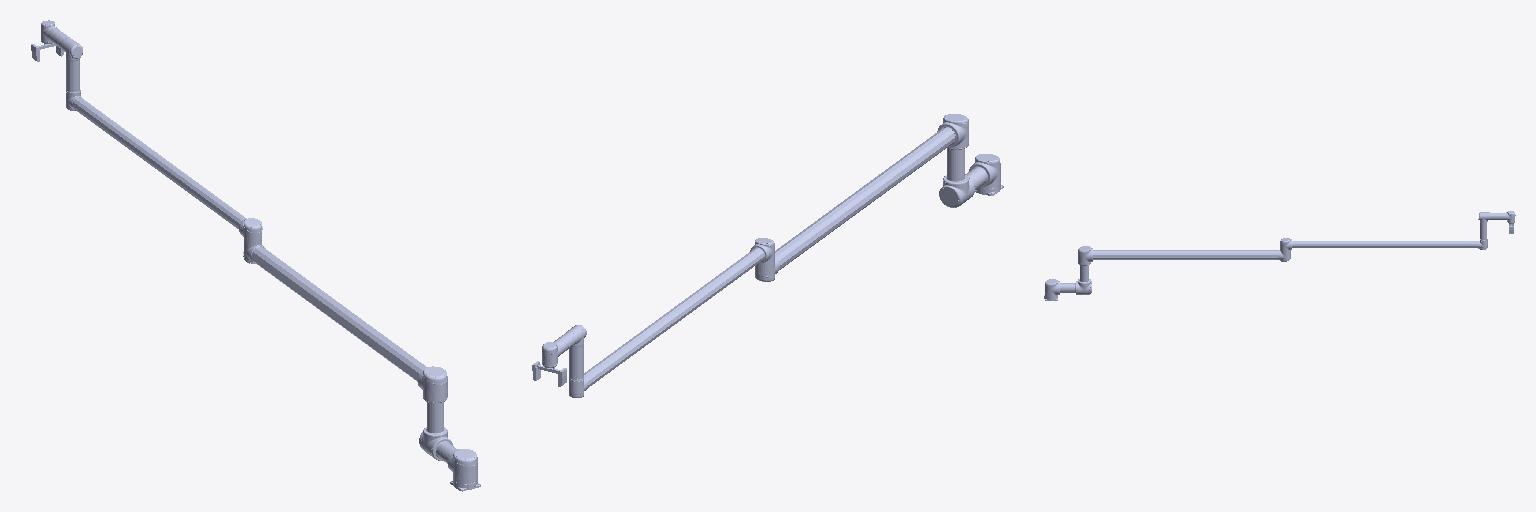
The robot description file, URDF, robot "osam_arm_urdf":
<?xml version="1.0" encoding="utf-8"?>
<!-- This URDF was automatically created by SolidWorks to URDF Exporter! Originally created by [author] ([email redacted]) 
     Commit Version:   Build Version: 1.6.8803.23649
     For more information, please see http://wiki.ros.org/sw_urdf_exporter -->
<robot
  name="osam_arm_urdf">

  <link name="world"/>

  <joint name="base_joint" type="fixed">
    <parent link="world"/>
    <child link="base_link"/>
    <origin rpy="0 0 0" xyz="0.0 0.0 0.0"/>
  </joint>
  
  <link
    name="base_link">
    <inertial>
      <origin
        xyz="6.991E-06 0.018435 0.00015935"
        rpy="0 0 0" />
      <mass
        value="0.70632" />
      <inertia
        ixx="0.0011556"
        ixy="7.8755E-08"
        ixz="-4.8008E-08"
        iyy="0.002129"
        iyz="-1.9954E-07"
        izz="0.0011458" />
    </inertial>
    <visual>
      <origin
        xyz="0 0 0"
        rpy="0 0 0" />
      <geometry>
        <mesh
          filename="package://osam_arm_urdf/meshes/base_link.STL" />
      </geometry>
      <material
        name="">
        <color
          rgba="0.79216 0.81961 0.93333 1" />
      </material>
    </visual>
    <collision>
      <origin
        xyz="0 0 0"
        rpy="0 0 0" />
      <geometry>
        <mesh
          filename="package://osam_arm_urdf/meshes/base_link.STL" />
      </geometry>
    </collision>
  </link>
  <link
    name="link_1">
    <inertial>
      <origin
        xyz="2.5674E-06 0.090696 -0.076696"
        rpy="0 0 0" />
      <mass
        value="4.9706" />
      <inertia
        ixx="0.01667"
        ixy="-9.0821E-07"
        ixz="2.0033E-07"
        iyy="0.015308"
        iyz="0.00085792"
        izz="0.01385" />
    </inertial>
    <visual>
      <origin
        xyz="0 0 0"
        rpy="0 0 0" />
      <geometry>
        <mesh
          filename="package://osam_arm_urdf/meshes/link_1.STL" />
      </geometry>
      <material
        name="">
        <color
          rgba="0.79216 0.81961 0.93333 1" />
      </material>
    </visual>
    <collision>
      <origin
        xyz="0 0 0"
        rpy="0 0 0" />
      <geometry>
        <mesh
          filename="package://osam_arm_urdf/meshes/link_1.STL" />
      </geometry>
    </collision>
  </link>
  <joint
    name="joint_1"
    type="revolute">
    <origin
      xyz="0 0 0.030189"
      rpy="1.5708 0 0" />
    <parent
      link="base_link" />
    <child
      link="link_1" />
    <axis
      xyz="0 1 0" />
    <limit
      lower="-3.14"
      upper="3.14"
      effort="111"
      velocity="3" />
  </joint>
  <link
    name="link_2">
    <inertial>
      <origin
        xyz="-3.362E-06 0.091219 -0.083339"
        rpy="0 0 0" />
      <mass
        value="5.3095" />
      <inertia
        ixx="0.019874"
        ixy="3.2202E-07"
        ixz="-6.6751E-07"
        iyy="0.014343"
        iyz="0.00085805"
        izz="0.018511" />
    </inertial>
    <visual>
      <origin
        xyz="0 0 0"
        rpy="0 0 0" />
      <geometry>
        <mesh
          filename="package://osam_arm_urdf/meshes/link_2.STL" />
      </geometry>
      <material
        name="">
        <color
          rgba="0.79216 0.81961 0.93333 1" />
      </material>
    </visual>
    <collision>
      <origin
        xyz="0 0 0"
        rpy="0 0 0" />
      <geometry>
        <mesh
          filename="package://osam_arm_urdf/meshes/link_2.STL" />
      </geometry>
    </collision>
  </link>
  <joint
    name="joint_2"
    type="revolute">
    <origin
      xyz="0 0.097811 -0.2784"
      rpy="0 0 0" />
    <parent
      link="link_1" />
    <child
      link="link_2" />
    <axis
      xyz="0 0 1" />
    <limit
      lower="-3.14"
      upper="3.14"
      effort="111"
      velocity="3" />
  </joint>
  <link
    name="link_3">
    <inertial>
      <origin
        xyz="-1.1715E-06 -1.0393 -0.089088"
        rpy="0 0 0" />
      <mass
        value="23.526" />
      <inertia
        ixx="6.6438"
        ixy="6.7367E-07"
        ixz="3.5778E-06"
        iyy="0.041506"
        iyz="-0.0011274"
        izz="6.6422" />
    </inertial>
    <visual>
      <origin
        xyz="0 0 0"
        rpy="0 0 0" />
      <geometry>
        <mesh
          filename="package://osam_arm_urdf/meshes/link_3.STL" />
      </geometry>
      <material
        name="">
        <color
          rgba="0.79216 0.81961 0.93333 1" />
      </material>
    </visual>
    <collision>
      <origin
        xyz="0 0 0"
        rpy="0 0 0" />
      <geometry>
        <mesh
          filename="package://osam_arm_urdf/meshes/link_3.STL" />
      </geometry>
    </collision>
  </link>
  <joint
    name="joint_3"
    type="revolute">
    <origin
      xyz="0 0.3154 -0.09"
      rpy="1.5708 0 0" />
    <parent
      link="link_2" />
    <child
      link="link_3" />
    <axis
      xyz="0 0 1" />
    <limit
      lower="-3.14"
      upper="3.14"
      effort="111"
      velocity="3" />
  </joint>
  <link
    name="link_4">
    <inertial>
      <origin
        xyz="5.3111E-08 1.0616 0.073084"
        rpy="0 0 0" />
      <mass
        value="14.099" />
      <inertia
        ixx="4.2041"
        ixy="9.5299E-07"
        ixz="3.8478E-07"
        iyy="0.014682"
        iyz="-0.00031182"
        izz="4.2038" />
    </inertial>
    <visual>
      <origin
        xyz="0 0 0"
        rpy="0 0 0" />
      <geometry>
        <mesh
          filename="package://osam_arm_urdf/meshes/link_4.STL" />
      </geometry>
      <material
        name="">
        <color
          rgba="0.79216 0.81961 0.93333 1" />
      </material>
    </visual>
    <collision>
      <origin
        xyz="0 0 0"
        rpy="0 0 0" />
      <geometry>
        <mesh
          filename="package://osam_arm_urdf/meshes/link_4.STL" />
      </geometry>
    </collision>
  </link>
  <joint
    name="joint_4"
    type="revolute">
    <origin
      xyz="0 -2.2307 -0.14467"
      rpy="3.1416 0 0" />
    <parent
      link="link_3" />
    <child
      link="link_4" />
    <axis
      xyz="0 0 1" />
    <limit
      lower="-3.14"
      upper="3.14"
      effort="111"
      velocity="3" />
  </joint>
  <link
    name="link_5">
    <inertial>
      <origin
        xyz="1.2326E-06 0.0034231 -0.17222"
        rpy="0 0 0" />
      <mass
        value="2.0698" />
      <inertia
        ixx="0.0059121"
        ixy="9.5844E-08"
        ixz="-2.9573E-08"
        iyy="0.0056801"
        iyz="9.0736E-05"
        izz="0.00228" />
    </inertial>
    <visual>
      <origin
        xyz="0 0 0"
        rpy="0 0 0" />
      <geometry>
        <mesh
          filename="package://osam_arm_urdf/meshes/link_5.STL" />
      </geometry>
      <material
        name="">
        <color
          rgba="0.79216 0.81961 0.93333 1" />
      </material>
    </visual>
    <collision>
      <origin
        xyz="0 0 0"
        rpy="0 0 0" />
      <geometry>
        <mesh
          filename="package://osam_arm_urdf/meshes/link_5.STL" />
      </geometry>
    </collision>
  </link>
  <joint
    name="joint_5"
    type="revolute">
    <origin
      xyz="0 2.1987 0.13404"
      rpy="3.1416 0 -3.1416" />
    <parent
      link="link_4" />
    <child
      link="link_5" />
    <axis
      xyz="0 0 1" />
    <limit
      lower="-3.14"
      upper="3.14"
      effort="111"
      velocity="3" />
  </joint>
  <link
    name="link_6">
    <inertial>
      <origin
        xyz="-1.5252E-06 0.15302 -0.0038197"
        rpy="0 0 0" />
      <mass
        value="1.8548" />
      <inertia
        ixx="0.0039377"
        ixy="-2.6512E-08"
        ixz="1.0043E-07"
        iyy="0.0020813"
        iyz="9.0735E-05"
        izz="0.0037058" />
    </inertial>
    <visual>
      <origin
        xyz="0 0 0"
        rpy="0 0 0" />
      <geometry>
        <mesh
          filename="package://osam_arm_urdf/meshes/link_6.STL" />
      </geometry>
      <material
        name="">
        <color
          rgba="0.79216 0.81961 0.93333 1" />
      </material>
    </visual>
    <collision>
      <origin
        xyz="0 0 0"
        rpy="0 0 0" />
      <geometry>
        <mesh
          filename="package://osam_arm_urdf/meshes/link_6.STL" />
      </geometry>
    </collision>
  </link>
  <joint
    name="joint_6"
    type="revolute">
    <origin
      xyz="0 0.060895 -0.28421"
      rpy="3.1416 0 -3.1416" />
    <parent
      link="link_5" />
    <child
      link="link_6" />
    <axis
      xyz="0 1 0" />
    <limit
      lower="-3.14"
      upper="3.14"
      effort="111"
      velocity="3" />
  </joint>
  <link
    name="link_7">
    <inertial>
      <origin
        xyz="-2.9345E-09 0.022658 1.3952E-07"
        rpy="0 0 0" />
      <mass
        value="0.14601" />
      <inertia
        ixx="8.5649E-05"
        ixy="-1.0495E-11"
        ixz="1.5678E-10"
        iyy="0.00029291"
        iyz="-2.52E-11"
        izz="0.00030273" />
    </inertial>
    <visual>
      <origin
        xyz="0 0 0"
        rpy="0 0 0" />
      <geometry>
        <mesh
          filename="package://osam_arm_urdf/meshes/link_7.STL" />
      </geometry>
      <material
        name="">
        <color
          rgba="0.79216 0.81961 0.93333 1" />
      </material>
    </visual>
    <collision>
      <origin
        xyz="0 0 0"
        rpy="0 0 0" />
      <geometry>
        <mesh
          filename="package://osam_arm_urdf/meshes/link_7.STL" />
      </geometry>
    </collision>
  </link>
  <joint
    name="joint_7"
    type="revolute">
    <origin
      xyz="0 0.24721 -0.0617"
      rpy="-1.5708 0 0" />
    <parent
      link="link_6" />
    <child
      link="link_7" />
    <axis
      xyz="0 1 0" />
    <limit
      lower="-3.14"
      upper="3.14"
      effort="111"
      velocity="0" />
  </joint>
  <link
    name="link_8">
    <inertial>
      <origin
        xyz="-0.087027 0.022495 0"
        rpy="0 0 0" />
      <mass
        value="0.12436" />
      <inertia
        ixx="0.00013009"
        ixy="-5.3919E-06"
        ixz="-7.8954E-21"
        iyy="4.5126E-05"
        iyz="8.8761E-21"
        izz="9.6432E-05" />
    </inertial>
    <visual>
      <origin
        xyz="0 0 0"
        rpy="0 0 0" />
      <geometry>
        <mesh
          filename="package://osam_arm_urdf/meshes/link_8.STL" />
      </geometry>
      <material
        name="">
        <color
          rgba="0.79216 0.81961 0.93333 1" />
      </material>
    </visual>
    <collision>
      <origin
        xyz="0 0 0"
        rpy="0 0 0" />
      <geometry>
        <mesh
          filename="package://osam_arm_urdf/meshes/link_8.STL" />
      </geometry>
    </collision>
  </link>
  <joint
    name="joint_8"
    type="prismatic">
    <origin
      xyz="0 0.05 0"
      rpy="0 0 0" />
    <parent
      link="link_7" />
    <child
      link="link_8" />
    <axis
      xyz="1 0 0" />
    <limit
      lower="0"
      upper="0.04"
      effort="111"
      velocity="3" />
  </joint>
  <link
    name="link_9">
    <inertial>
      <origin
        xyz="-0.16203 0.00049522 -0.03"
        rpy="0 0 0" />
      <mass
        value="0.12436" />
      <inertia
        ixx="0.00013009"
        ixy="-5.3919E-06"
        ixz="-5.6658E-21"
        iyy="4.5126E-05"
        iyz="9.9397E-21"
        izz="9.6432E-05" />
    </inertial>
    <visual>
      <origin
        xyz="0 0 0"
        rpy="0 0 0" />
      <geometry>
        <mesh
          filename="package://osam_arm_urdf/meshes/link_9.STL" />
      </geometry>
      <material
        name="">
        <color
          rgba="0.79216 0.81961 0.93333 1" />
      </material>
    </visual>
    <collision>
      <origin
        xyz="0 0 0"
        rpy="0 0 0" />
      <geometry>
        <mesh
          filename="package://osam_arm_urdf/meshes/link_9.STL" />
      </geometry>
    </collision>
  </link>
  <joint
    name="joint_9"
    type="prismatic">
    <origin
      xyz="-0.075 0.072 -0.03"
      rpy="3.1416 0 3.1416" />
    <parent
      link="link_7" />
    <child
      link="link_9" />
    <axis
      xyz="1 0 0" />
    <limit
      lower="0"
      upper="0.04"
      effort="111"
      velocity="3" />
  </joint>

  <transmission name="link_1_trans">
    <type>transmission_interface/SimpleTransmission</type>
    <joint name="joint_1">
      <hardwareInterface>hardware_interface/PositionJointInterface</hardwareInterface>
    </joint>
    <actuator name="link_1_motor">
      <hardwareInterface>hardware_interface/PositionJointInterface</hardwareInterface> 
      <mechanicalReduction>1</mechanicalReduction>
    </actuator>
 </transmission>

 <transmission name="link_2_trans">
    <type>transmission_interface/SimpleTransmission</type>
    <joint name="joint_2">
      <hardwareInterface>hardware_interface/PositionJointInterface</hardwareInterface>
    </joint>
    <actuator name="link_2_motor">
      <hardwareInterface>hardware_interface/PositionJointInterface</hardwareInterface> 
      <mechanicalReduction>1</mechanicalReduction>
    </actuator>
 </transmission>

 <transmission name="link_3_trans">
    <type>transmission_interface/SimpleTransmission</type>
    <joint name="joint_3">
      <hardwareInterface>hardware_interface/PositionJointInterface</hardwareInterface>
    </joint>
    <actuator name="link_3_motor">
      <hardwareInterface>hardware_interface/PositionJointInterface</hardwareInterface> 
      <mechanicalReduction>1</mechanicalReduction>
    </actuator>
 </transmission>

 <transmission name="link_4_trans">
    <type>transmission_interface/SimpleTransmission</type>
    <joint name="joint_4">
      <hardwareInterface>hardware_interface/PositionJointInterface</hardwareInterface>
    </joint>
    <actuator name="link_4_motor">
      <hardwareInterface>hardware_interface/PositionJointInterface</hardwareInterface> 
      <mechanicalReduction>1</mechanicalReduction>
    </actuator>
 </transmission>

 <transmission name="link_5_trans">
    <type>transmission_interface/SimpleTransmission</type>
    <joint name="joint_5">
      <hardwareInterface>hardware_interface/PositionJointInterface</hardwareInterface>
    </joint>
    <actuator name="link_5_motor">
      <hardwareInterface>hardware_interface/PositionJointInterface</hardwareInterface> 
      <mechanicalReduction>1</mechanicalReduction>
    </actuator>
 </transmission>

 <transmission name="link_6_trans">
    <type>transmission_interface/SimpleTransmission</type>
    <joint name="joint_6">
      <hardwareInterface>hardware_interface/PositionJointInterface</hardwareInterface>
    </joint>
    <actuator name="link_6_motor">
      <hardwareInterface>hardware_interface/PositionJointInterface</hardwareInterface> 
      <mechanicalReduction>1</mechanicalReduction>
    </actuator>
 </transmission>

 <transmission name="link_7_trans">
    <type>transmission_interface/SimpleTransmission</type>
    <joint name="joint_7">
      <hardwareInterface>hardware_interface/PositionJointInterface</hardwareInterface>
    </joint>
    <actuator name="link_7_motor">
      <hardwareInterface>hardware_interface/PositionJointInterface</hardwareInterface> 
      <mechanicalReduction>1</mechanicalReduction>
    </actuator>
 </transmission>

 <transmission name="link_8_trans">
    <type>transmission_interface/SimpleTransmission</type>
    <joint name="joint_8">
      <hardwareInterface>hardware_interface/PositionJointInterface</hardwareInterface>
    </joint>
    <actuator name="link_8_motor">
      <hardwareInterface>hardware_interface/PositionJointInterface</hardwareInterface> 
      <mechanicalReduction>1</mechanicalReduction>
    </actuator>
 </transmission>

 <transmission name="link_9_trans">
    <type>transmission_interface/SimpleTransmission</type>
    <joint name="joint_9">
      <hardwareInterface>hardware_interface/PositionJointInterface</hardwareInterface>
    </joint>
    <actuator name="link_9_motor">
      <hardwareInterface>hardware_interface/PositionJointInterface</hardwareInterface> 
      <mechanicalReduction>1</mechanicalReduction>
    </actuator>
 </transmission>

  <gazebo>
    <plugin name="control" filename="libgazebo_ros_control.so">
      <robotNamespace>/</robotNamespace>
    </plugin>
 </gazebo>

  <gazebo reference="link_1">
    <selfCollide>true</selfCollide>
  </gazebo>

  <gazebo reference="link_2">
    <selfCollide>true</selfCollide>
  </gazebo>

  <gazebo reference="link_3">
    <selfCollide>true</selfCollide>
  </gazebo>

  <gazebo reference="link_4">
    <selfCollide>true</selfCollide>
  </gazebo>

  <gazebo reference="link_5">
    <selfCollide>true</selfCollide>
  </gazebo>

  <gazebo reference="link_6">
    <selfCollide>true</selfCollide>
  </gazebo>

  <gazebo reference="link_7">
    <selfCollide>true</selfCollide>
  </gazebo>

  <gazebo reference="link_8">
    <selfCollide>true</selfCollide>
  </gazebo>

  <gazebo reference="link_9">
    <selfCollide>true</selfCollide>
  </gazebo>
  

</robot>

--- What the picture shows (computed from the rendered views, not written in the file) ---
3 views of the same robot in one strip: view 1: azimuth 30°, elevation 25°; view 2: azimuth 150°, elevation 25°; view 3: azimuth 270°, elevation 25° (orthographic).
Robot: osam_arm_urdf — 11 links, 10 joints (7 revolute, 2 prismatic, 1 fixed); root link world; default pose: every joint at zero.
Links seen in each view (by area): view 1: link_3, link_4, link_1, link_2, link_5; view 2: link_3, link_4, link_2, link_1, link_5, link_6; view 3: link_3, link_4.
Link boxes in pixels (left/top/right/bottom): link_3: left=243, top=242, right=447, bottom=402; link_4: left=66, top=91, right=262, bottom=243; link_1: left=432, top=438, right=477, bottom=484; link_2: left=419, top=400, right=447, bottom=457; link_5: left=62, top=38, right=82, bottom=93; link_3: left=755, top=114, right=968, bottom=281; link_4: left=569, top=238, right=774, bottom=397; link_2: left=939, top=145, right=974, bottom=207; link_1: left=965, top=154, right=1000, bottom=189; link_5: left=568, top=325, right=586, bottom=381; link_6: left=542, top=331, right=577, bottom=365; link_3: left=1078, top=246, right=1290, bottom=264; link_4: left=1280, top=238, right=1487, bottom=251.
Bounding box of the posed robot: 0.2 × 5.23 × 1.06 m (x, y, z).
10 mesh visuals loaded from 10 distinct referenced files (10 binary STL).
